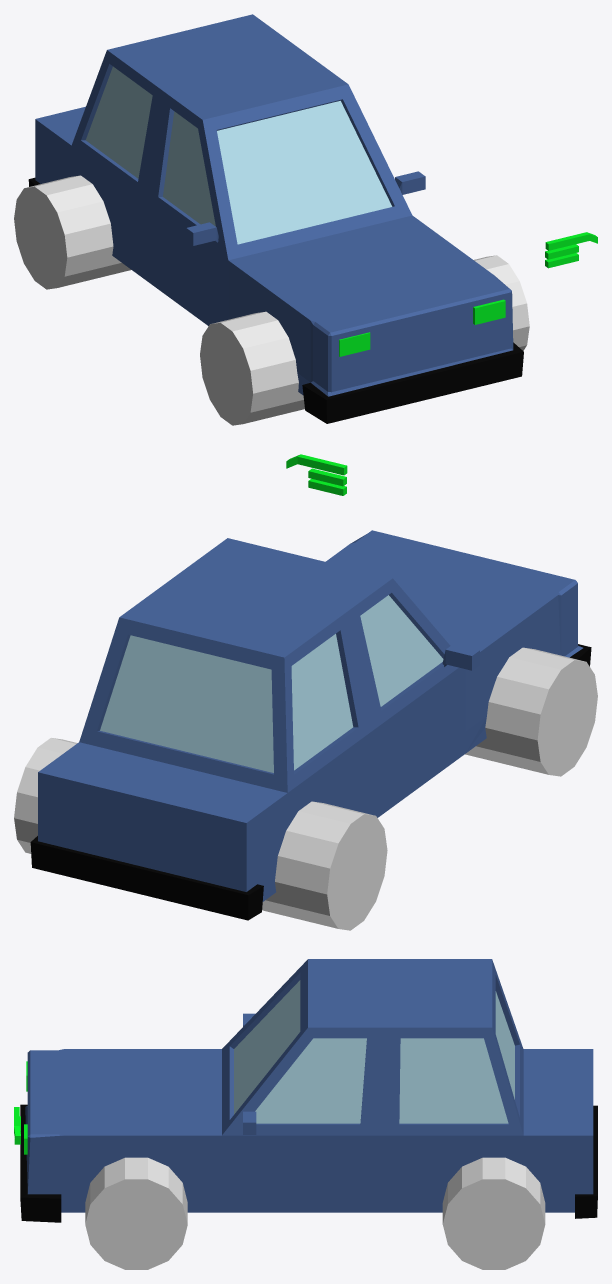
File: Car.fbx
3 renders of one model, top to bottom at view 1: azimuth 30°, elevation 25°; view 2: azimuth 150°, elevation 25°; view 3: azimuth 270°, elevation 25°, orthographic. The views are drawn at different scales.
Parts seen in each view (by area): view 1: Cube, Cylinder, Cylinder.006, Cube.003, Cube.001, Cube.006; view 2: Cube, Cylinder.006, Cylinder, Cube.003, Cube.002; view 3: Cube, Cylinder.006, Cylinder, Cube.003.
Boxes of the visible parts, left/top/right/bottom form: Cube: left=28, top=14, right=523, bottom=423; Cylinder: left=200, top=255, right=529, bottom=425; Cylinder.006: left=14, top=175, right=131, bottom=289; Cube.003: left=186, top=171, right=425, bottom=245; Cube.001: left=473, top=299, right=505, bottom=324; Cube.006: left=339, top=332, right=370, bottom=356; Cube: left=30, top=530, right=591, bottom=920; Cylinder.006: left=14, top=738, right=387, bottom=930; Cylinder: left=465, top=647, right=597, bottom=776; Cube.003: left=442, top=644, right=479, bottom=670; Cube.002: left=286, top=454, right=347, bottom=475; Cube: left=20, top=959, right=597, bottom=1222; Cylinder.006: left=442, top=1157, right=545, bottom=1269; Cylinder: left=85, top=1157, right=187, bottom=1269; Cube.003: left=243, top=1013, right=256, bottom=1134.
Bounding box in the file's own units: 3.35 × 2.28 × 5.71.
